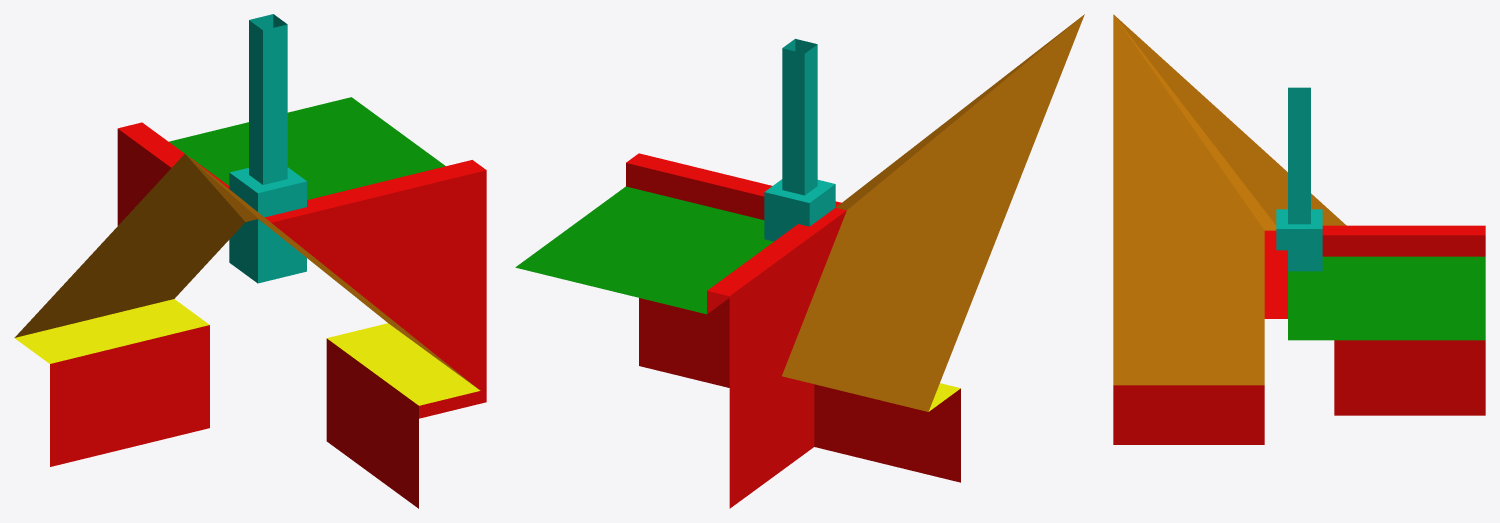
File: None_W_E_E_E_E_S_E_E_BigStrut.fbx
3 renders of one model, left to right at view 1: azimuth 30°, elevation 25°; view 2: azimuth 150°, elevation 25°; view 3: azimuth 270°, elevation 25°, orthographic. The views are drawn at different scales.
Visible parts, largest first — view 1: None_W_E_E_E_E_S_E_E_BigStrut; view 2: None_W_E_E_E_E_S_E_E_BigStrut; view 3: None_W_E_E_E_E_S_E_E_BigStrut.
Boxes of the visible parts, left/top/right/bottom form: None_W_E_E_E_E_S_E_E_BigStrut: left=14, top=14, right=486, bottom=508; None_W_E_E_E_E_S_E_E_BigStrut: left=515, top=14, right=1084, bottom=508; None_W_E_E_E_E_S_E_E_BigStrut: left=1113, top=14, right=1485, bottom=444.
Bounding box in the file's own units: 100 × 100 × 100.
